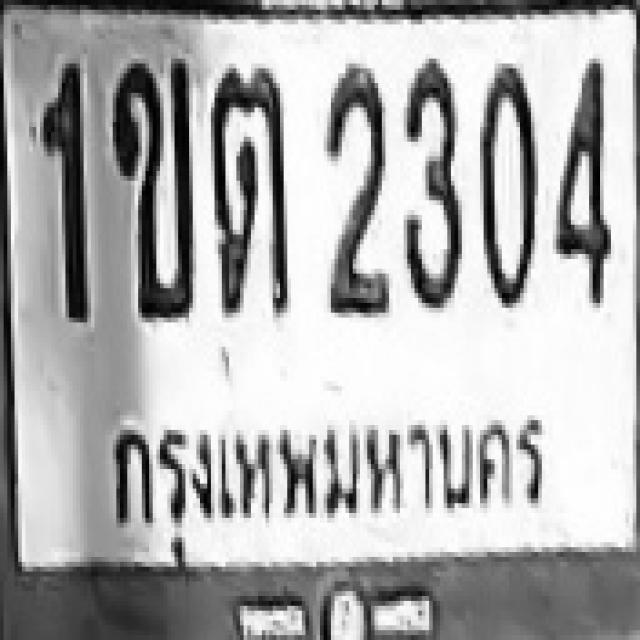0: (478, 59, 536, 308)
1: (40, 59, 87, 322)
11KhorKhai: (112, 59, 192, 318)
2: (322, 61, 387, 315)
3: (400, 56, 462, 310)
30TorTao: (209, 66, 289, 315)
4: (553, 57, 611, 306)
Bangkok: (98, 391, 554, 542)
